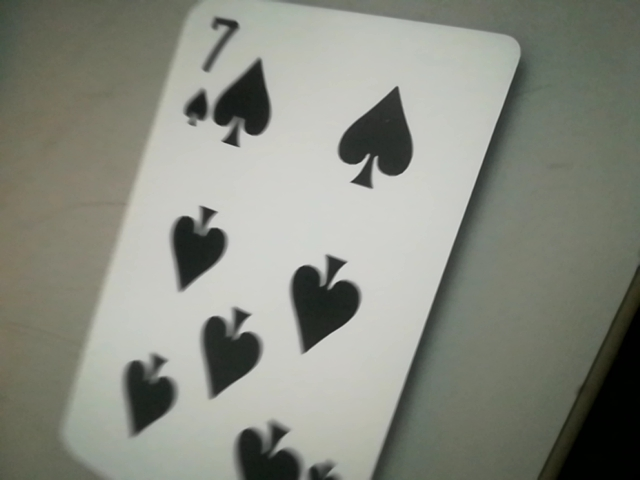ht 7: (169, 4, 251, 144)
